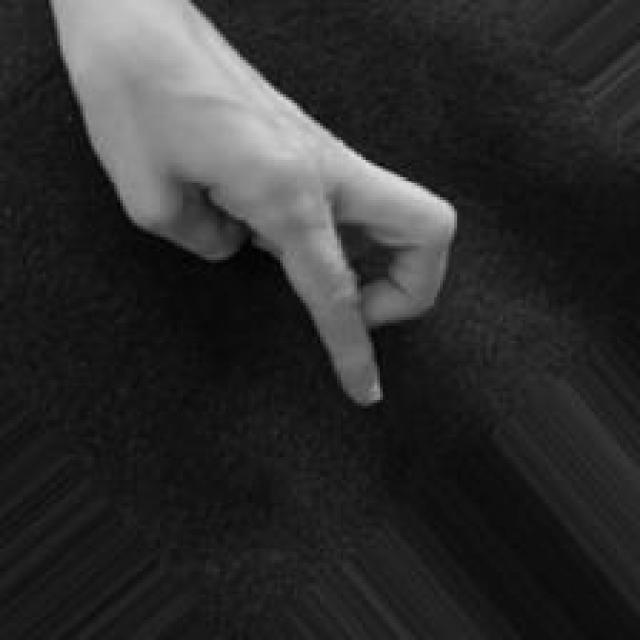P: (54, 4, 462, 416)
